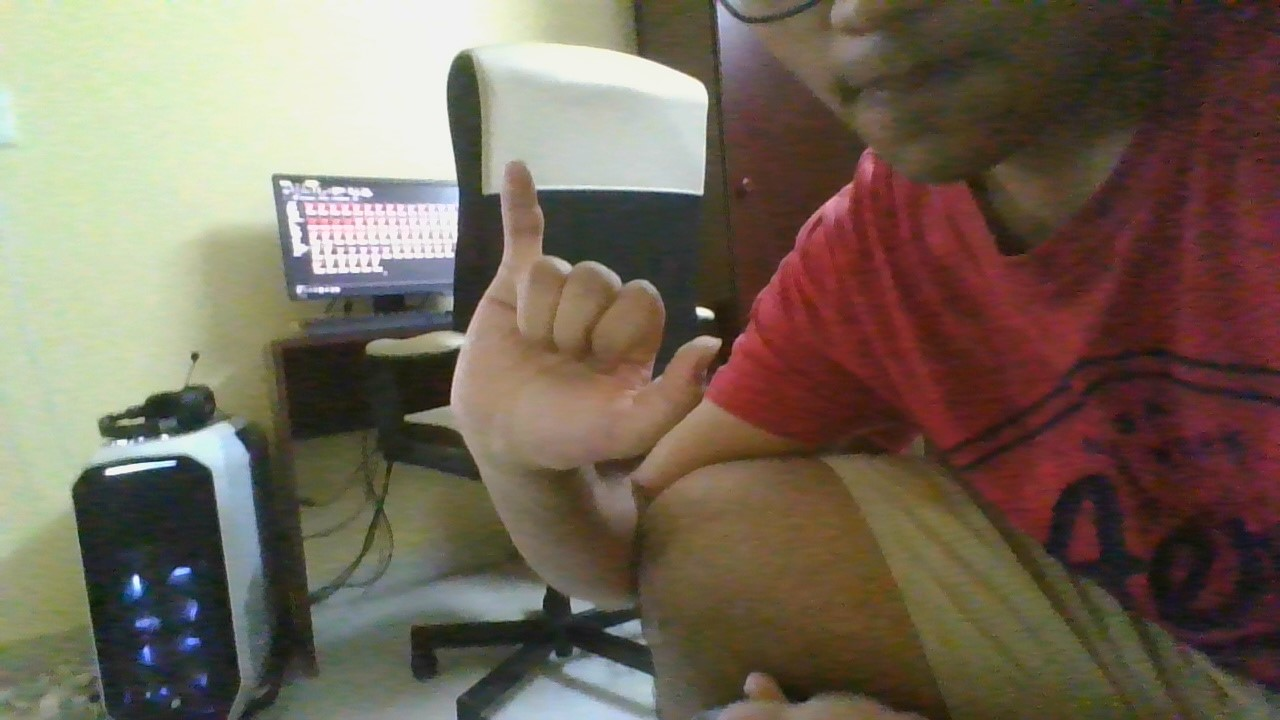y: (442, 156, 727, 474)
